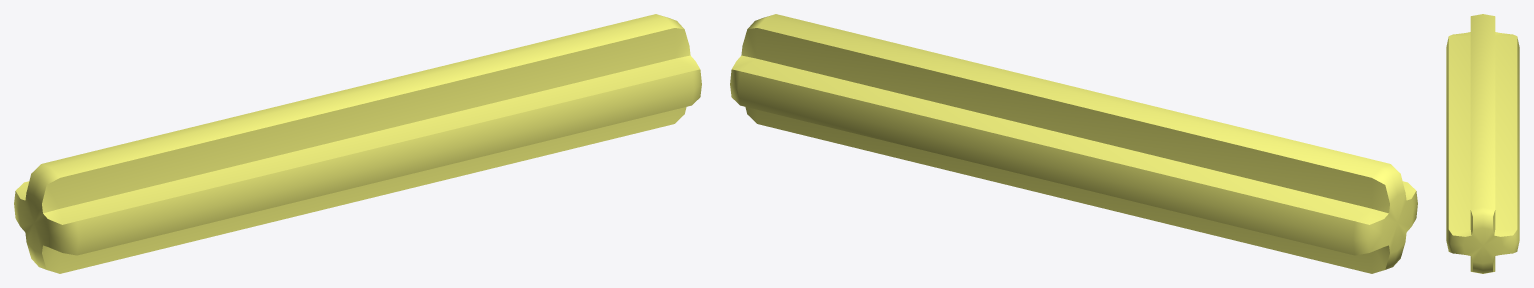
The picture shows the model from 3 angles, left to right: view 1: azimuth 30°, elevation 25°; view 2: azimuth 150°, elevation 25°; view 3: azimuth 270°, elevation 25°; orthographic projection. The views are drawn at different scales.
Visible parts, largest first — view 1: 3705.dat; view 2: 3705.dat; view 3: 3705.dat.
Part boxes in pixels (x1,y1,x2,y2): 3705.dat: [14, 14, 701, 273]; 3705.dat: [730, 14, 1417, 273]; 3705.dat: [1446, 14, 1519, 273].
Size of the model in its own units: 0.0316 by 0.0048 by 0.0048.
